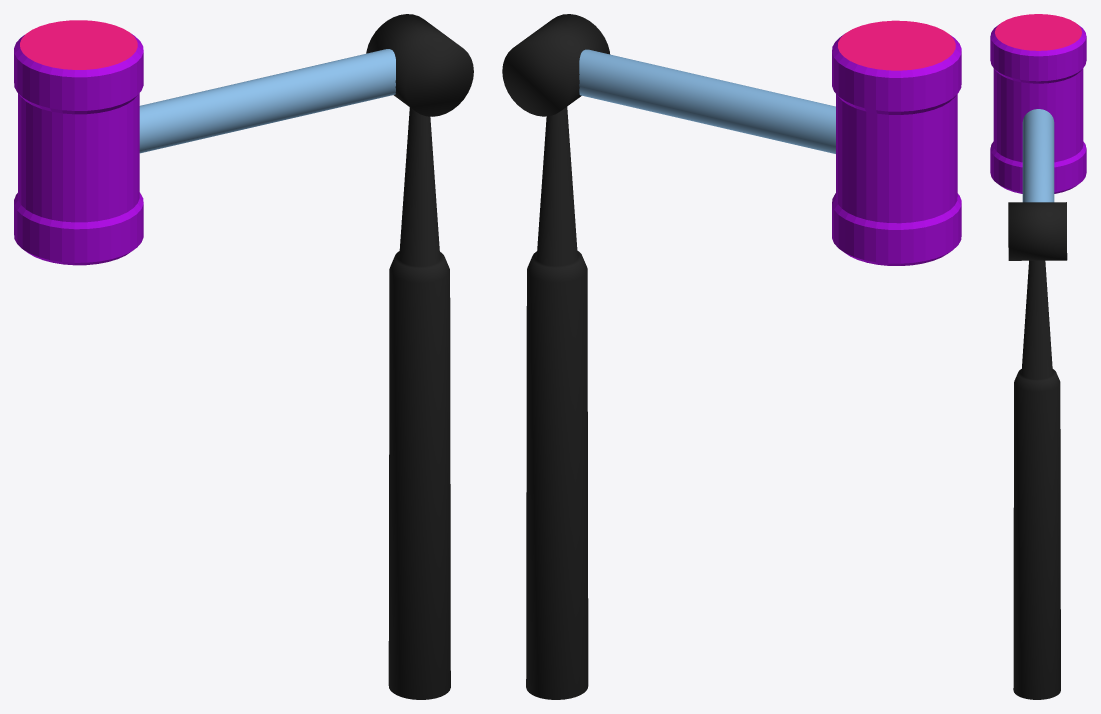
Rendered from hammer.fbx.
3 views of the same model, side by side, from view 1: azimuth 30°, elevation 25°; view 2: azimuth 150°, elevation 25°; view 3: azimuth 270°, elevation 25° (orthographic). The views are drawn at different scales.
Visible parts, largest first — view 1: Cylinder.003, Cylinder, Cylinder.001, Cylinder.002; view 2: Cylinder.003, Cylinder, Cylinder.001, Cylinder.002; view 3: Cylinder.003, Cylinder, Cylinder.002, Cylinder.001.
Boxes of the visible parts, box(x1,y1,x2,y2) form: Cylinder.003: box(388, 107, 450, 699); Cylinder: box(14, 20, 143, 265); Cylinder.001: box(139, 49, 395, 153); Cylinder.002: box(366, 14, 473, 116); Cylinder.003: box(526, 107, 588, 699); Cylinder: box(832, 20, 961, 265); Cylinder.001: box(579, 49, 835, 153); Cylinder.002: box(502, 14, 610, 116); Cylinder.003: box(1013, 260, 1060, 699); Cylinder: box(990, 14, 1086, 193); Cylinder.002: box(1008, 202, 1067, 260); Cylinder.001: box(1022, 109, 1054, 202).
Size of the model in its own units: 818 by 1313 by 213.
